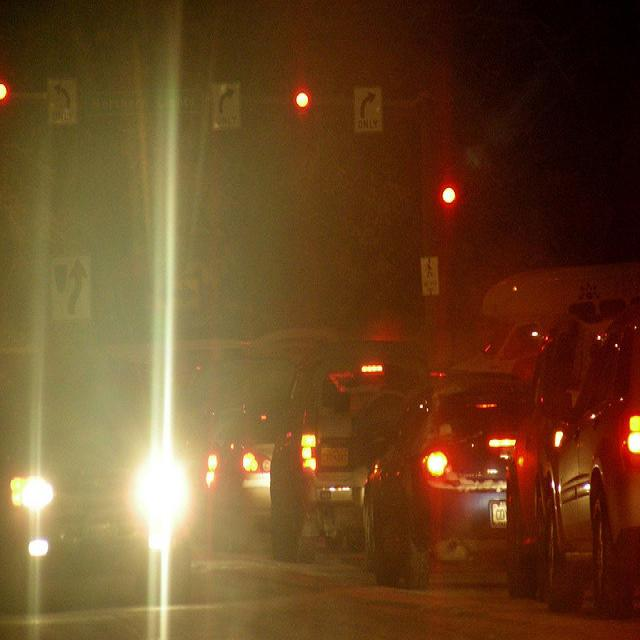Car: (191, 309, 640, 620)
